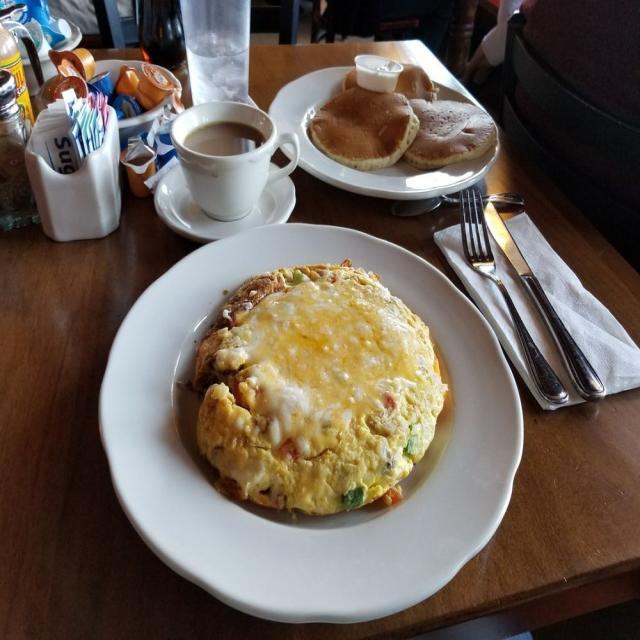Omelette: (198, 262, 447, 515)
Pancakes: (311, 46, 499, 184)
